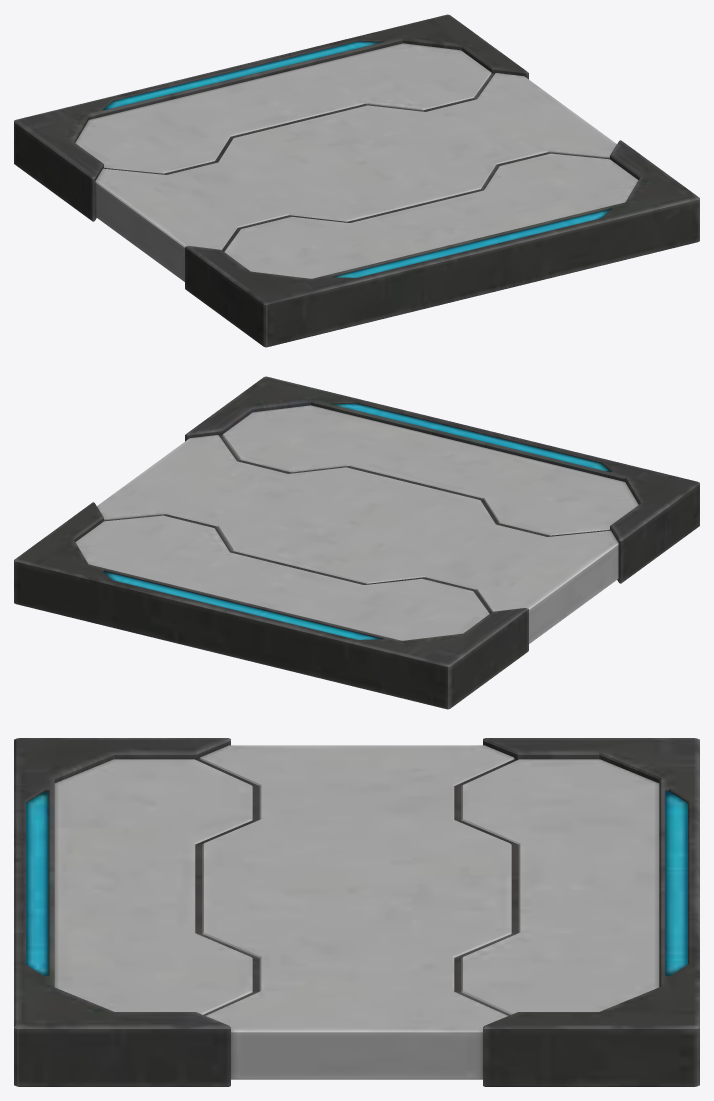
Rendered from SM_Roof_Ancient_c0454d.glb.
The picture shows the model from 3 angles, top to bottom: view 1: azimuth 30°, elevation 25°; view 2: azimuth 150°, elevation 25°; view 3: azimuth 270°, elevation 25°; orthographic projection. The views are drawn at different scales.
Bounding box in the file's own units: 4 × 0.3897 × 4.
Materials: 1 (1 with a texture image).
